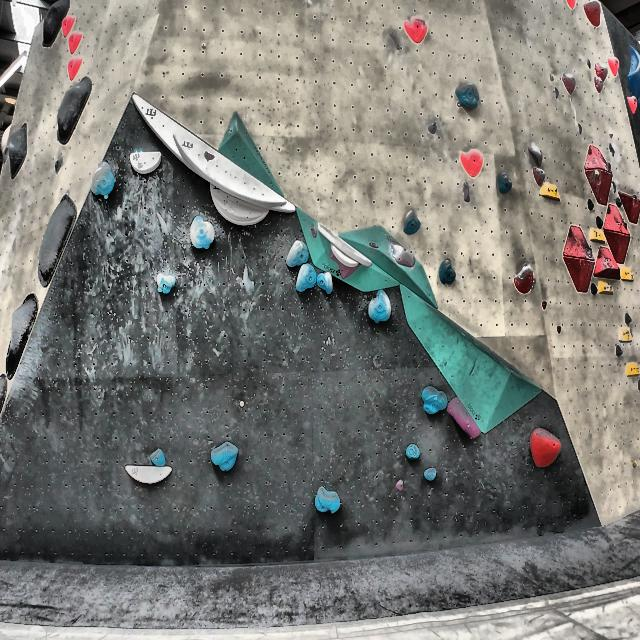Hold: (39, 195, 78, 291), (54, 74, 94, 148), (592, 204, 636, 265), (560, 226, 594, 302), (7, 295, 38, 378), (581, 140, 616, 202), (448, 394, 484, 444), (528, 424, 564, 468), (89, 161, 124, 205), (38, 0, 66, 50), (5, 123, 29, 180), (362, 289, 398, 326), (208, 440, 245, 474), (420, 384, 448, 421), (456, 78, 482, 115), (616, 184, 640, 224), (284, 237, 313, 270), (190, 217, 218, 251), (627, 41, 640, 114), (455, 148, 486, 178), (390, 240, 420, 271), (311, 488, 343, 515), (508, 270, 538, 297), (400, 210, 424, 241), (403, 18, 427, 48), (297, 262, 318, 294), (585, 0, 602, 30), (154, 274, 177, 296), (57, 11, 74, 40), (437, 258, 455, 285), (66, 55, 85, 80), (317, 272, 335, 296), (536, 182, 560, 200), (525, 146, 545, 167), (529, 164, 547, 187), (423, 467, 446, 484), (495, 174, 515, 193), (64, 33, 82, 54), (148, 450, 168, 468), (404, 442, 422, 462), (596, 278, 614, 298), (588, 228, 608, 245), (561, 74, 577, 94), (592, 60, 608, 80), (618, 325, 634, 344), (618, 266, 634, 284), (608, 54, 620, 77), (625, 361, 640, 379), (627, 92, 639, 114), (55, 156, 68, 174), (592, 77, 605, 94)
